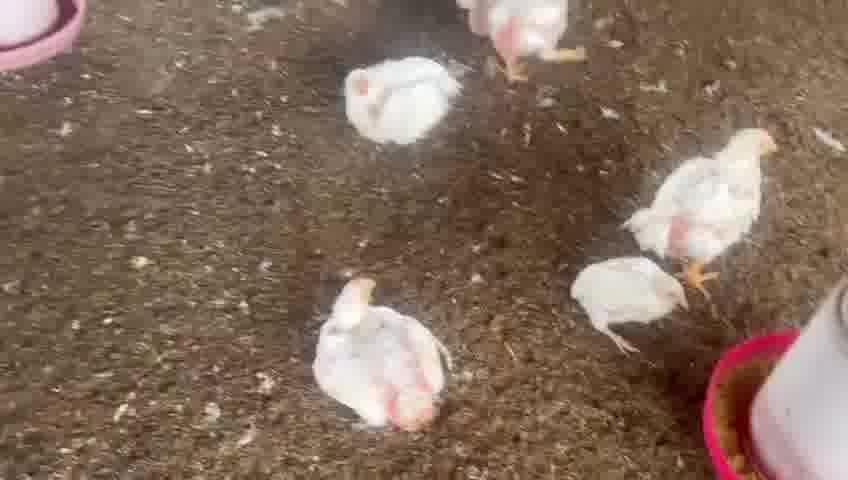AbNormal: (571, 242, 693, 352)
Normal: (629, 115, 779, 271), (312, 278, 450, 428), (336, 57, 468, 132)
